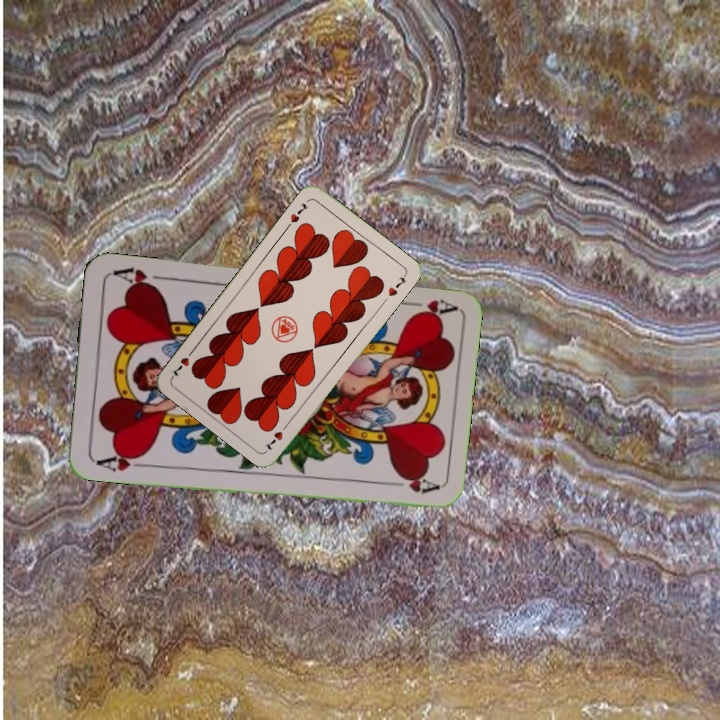H7: (260, 419, 291, 454), (282, 199, 311, 231)
HA: (398, 294, 457, 322), (89, 447, 149, 474)
